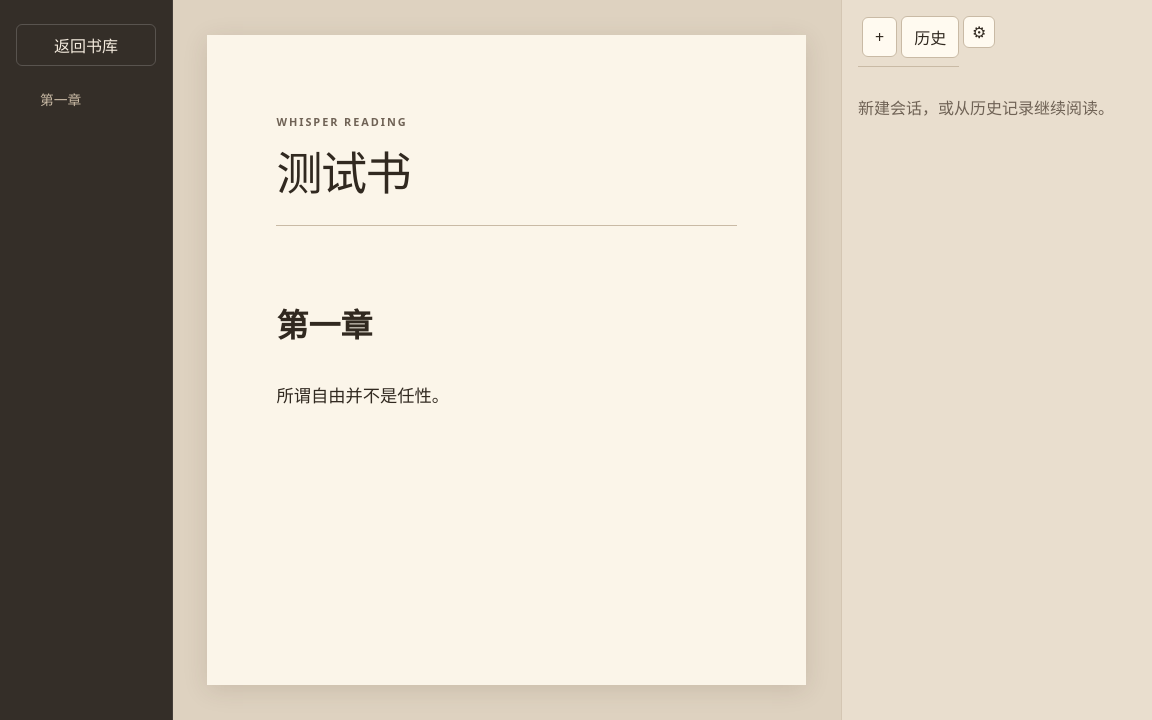
ReaderPage 会话编排 › 首次发送在请求完成前打开会话并显示流式内容
Expected: the text "所谓自由并不是任性。" is shown, [276,386,449,406]
Click the button named "新建会话" at (880, 37), box [862,17,897,57]
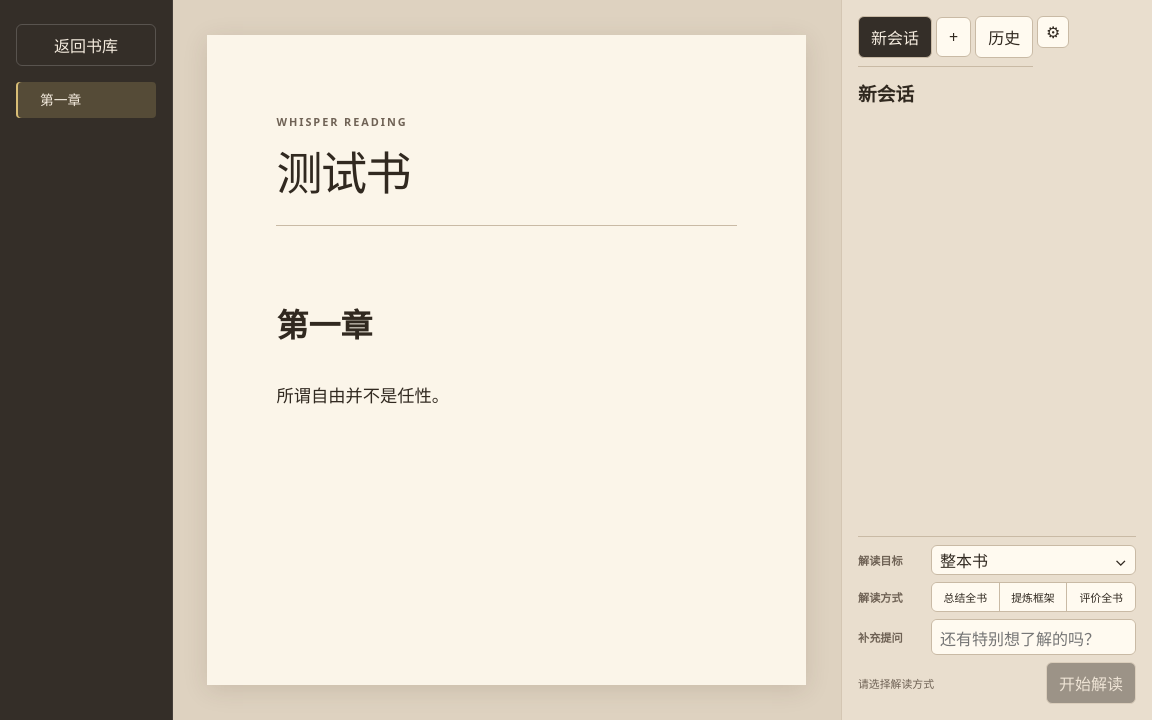
Click the radio button labelled "总结全书" at (966, 597), box [932,583,1000,611]
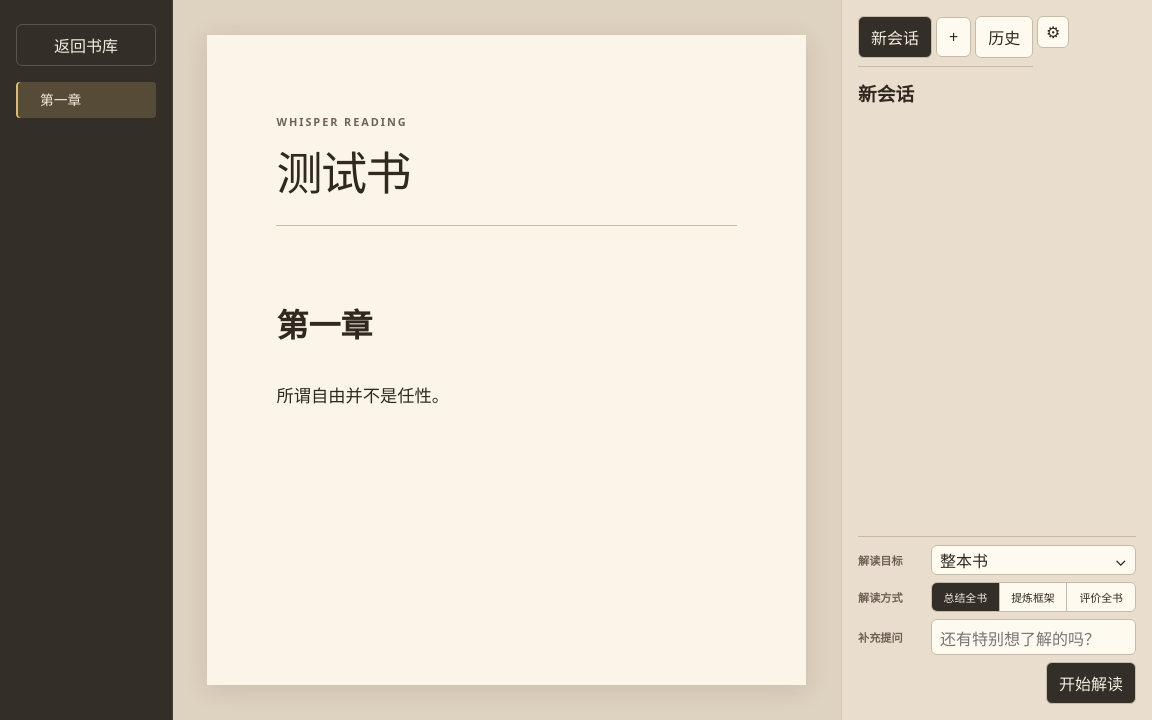
Type "全书讲了什么？" into the text box with placeholder "还有特别想了解的吗？（可选）" at (1034, 637), box [931,619,1136,655]
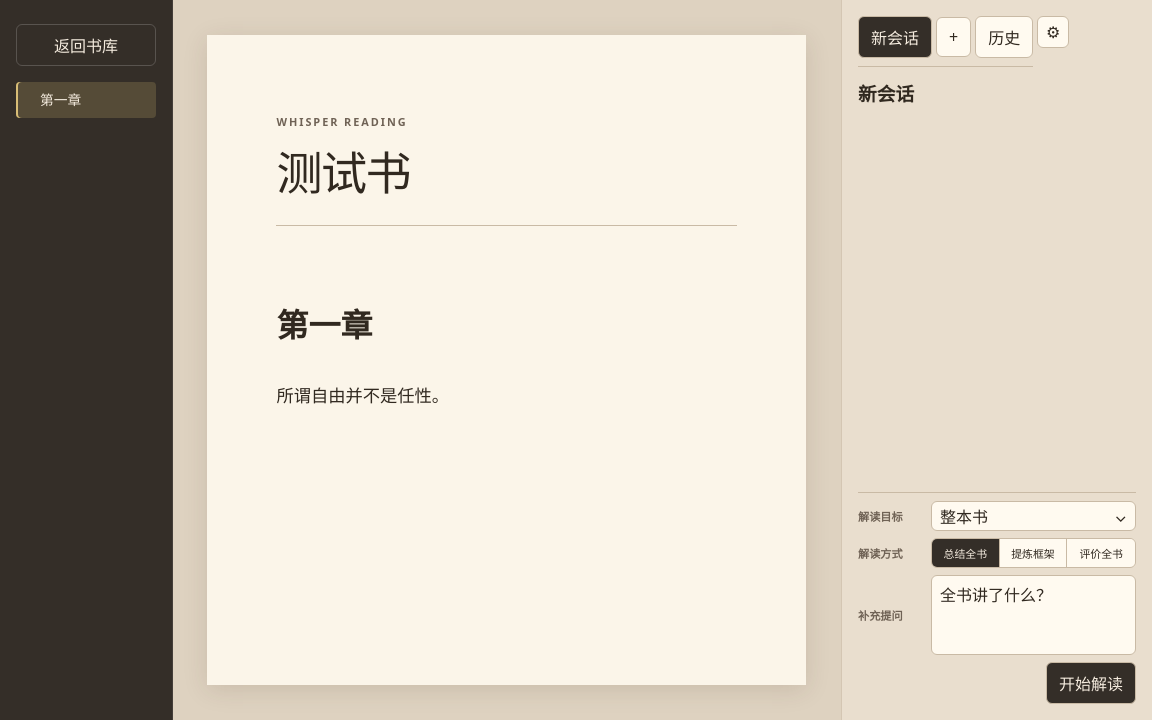
Click the button "开始解读" at (1091, 683), box [1046,662,1136,704]
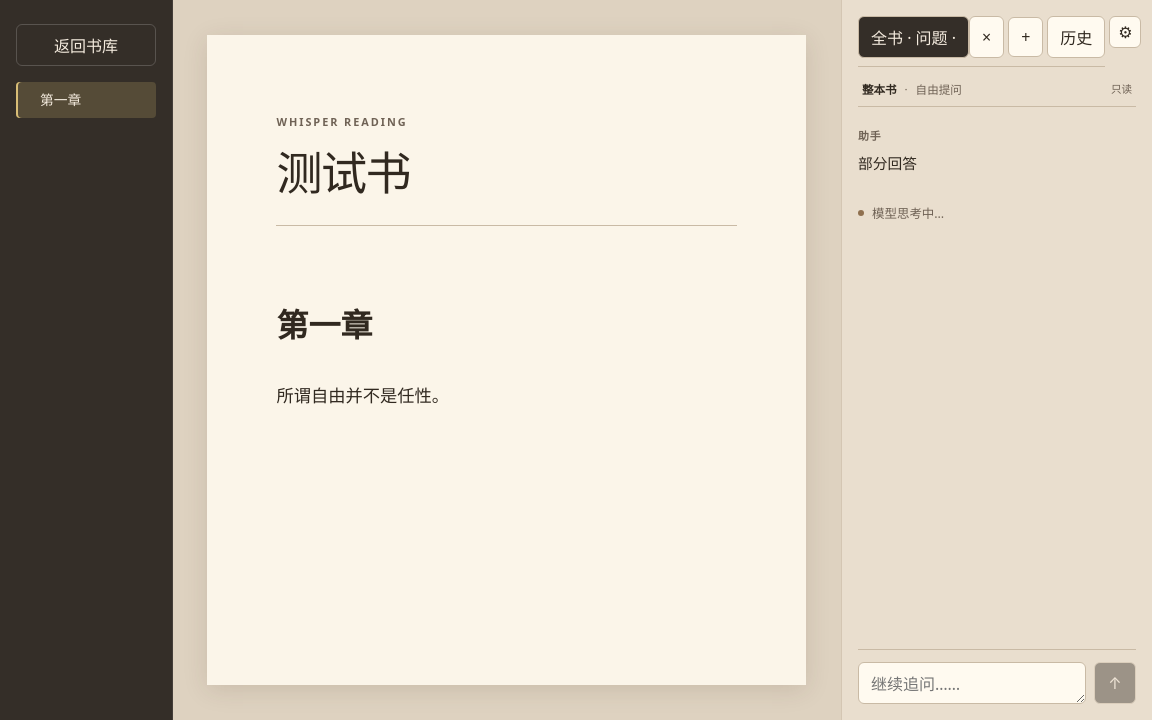
Expected: the text "模型思考中…" is shown, [872,205,944,222]
Expected: the text "部分回答" is shown, [858,153,917,173]
